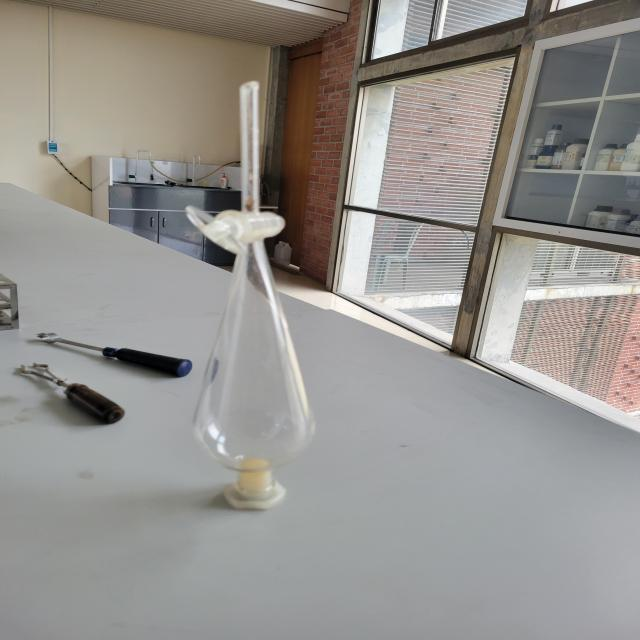Separating_Funnel: (150, 59, 340, 536)
